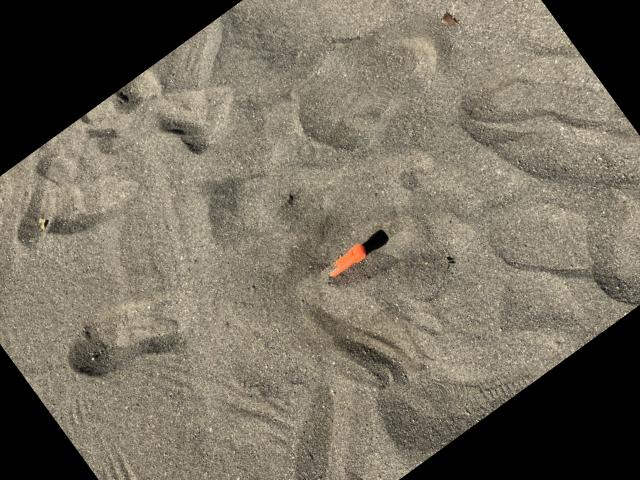hammer: (250, 221, 378, 337)
